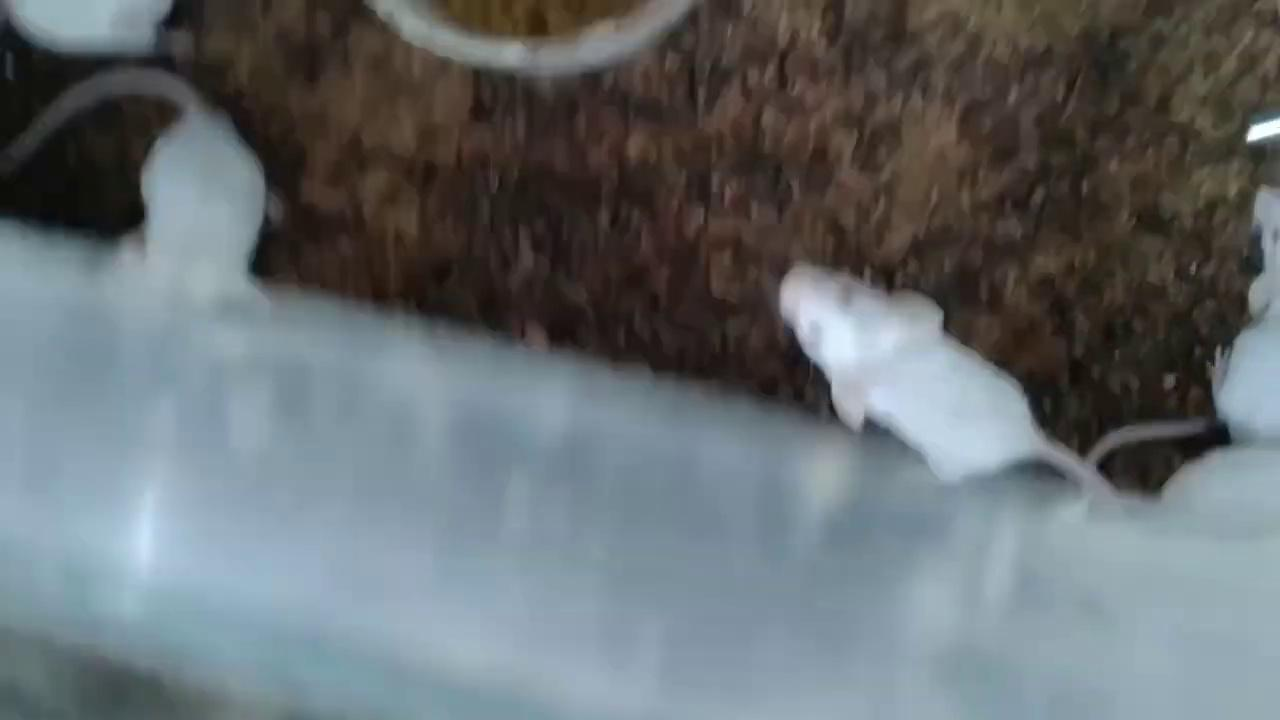rat: (780, 260, 1114, 490), (0, 67, 282, 279), (1087, 181, 1280, 467)
